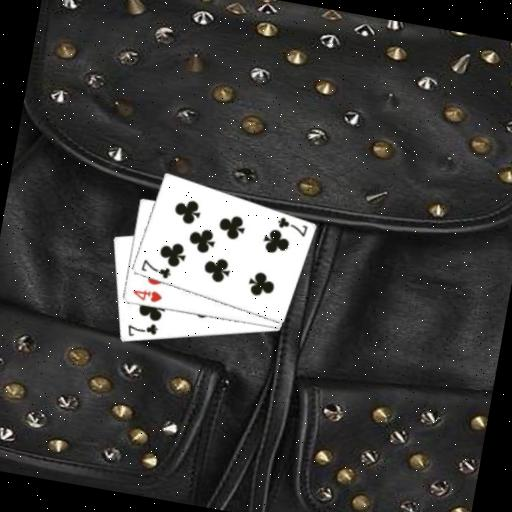4H: (128, 284, 164, 305)
7C: (122, 316, 160, 342), (136, 255, 174, 281), (272, 212, 310, 238)
